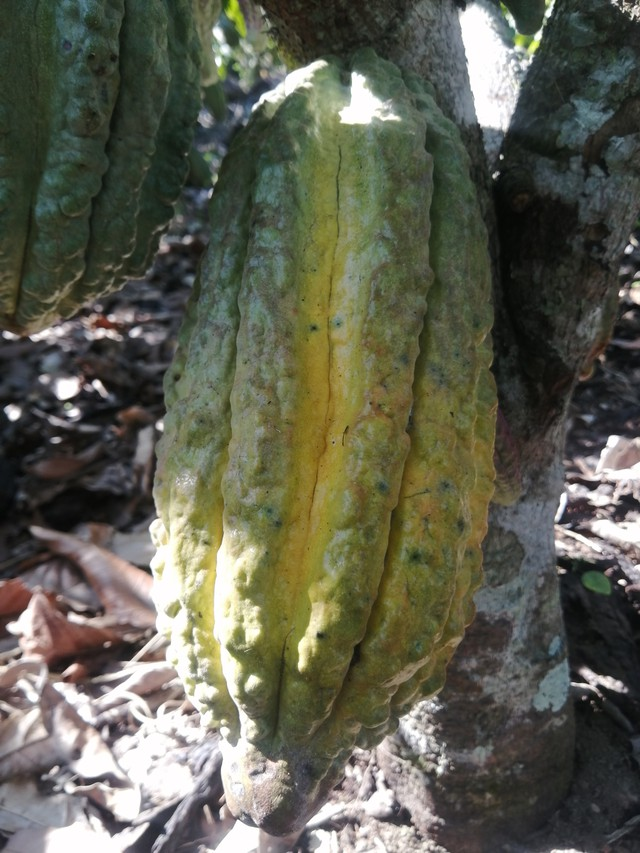Health: (112, 36, 524, 842)
